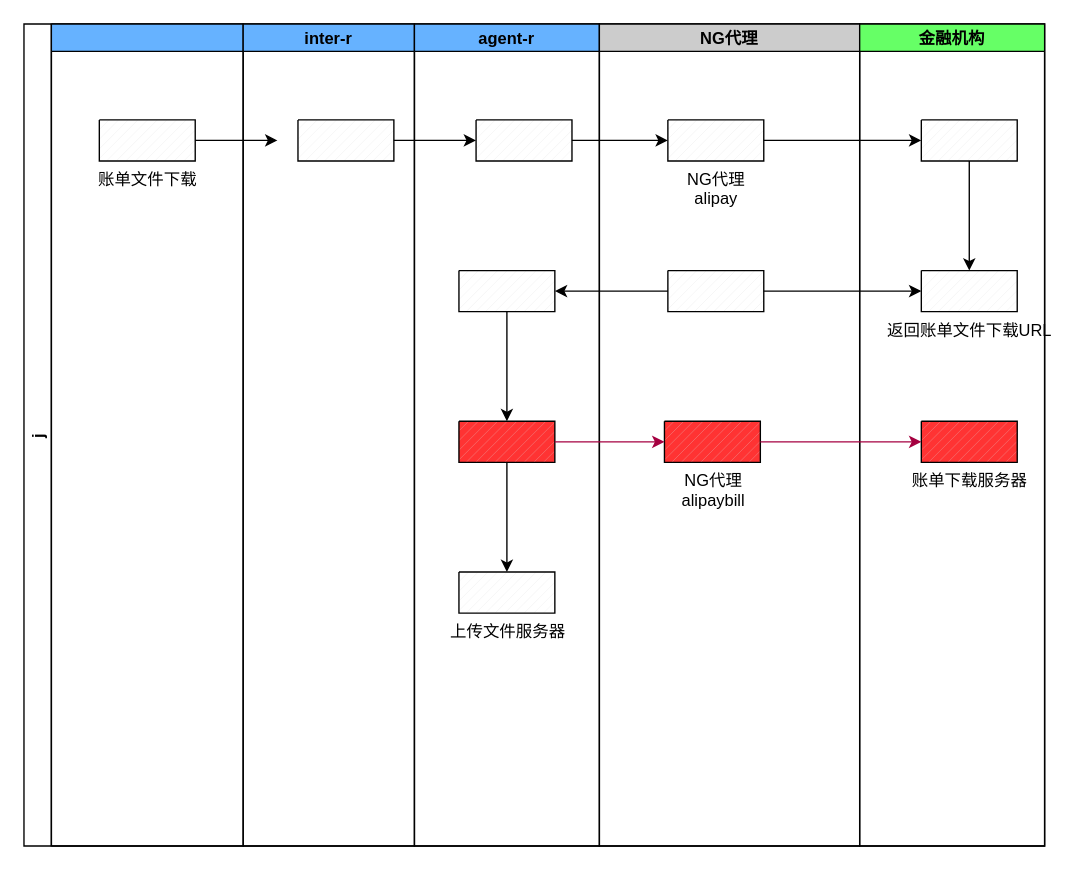
Image size: 1075x870. Some labels were removed from this diagram. Here are the shapes that lost their labels. From the top down, the box of each, then its label:
(297, 119, 394, 161): BANK_ROUTE_HTTP BankRouteHttpService#doPost()
(475, 119, 572, 161): AGENT_HTTP_CLIENT Agent4BankHttpService#doPost()
(920, 119, 1017, 161): 金融机构地址
(458, 269, 555, 312): 解析报文获取下载URL
(50, 23, 243, 846): 对账任务proc
(458, 420, 555, 462): 调用账单服务器
